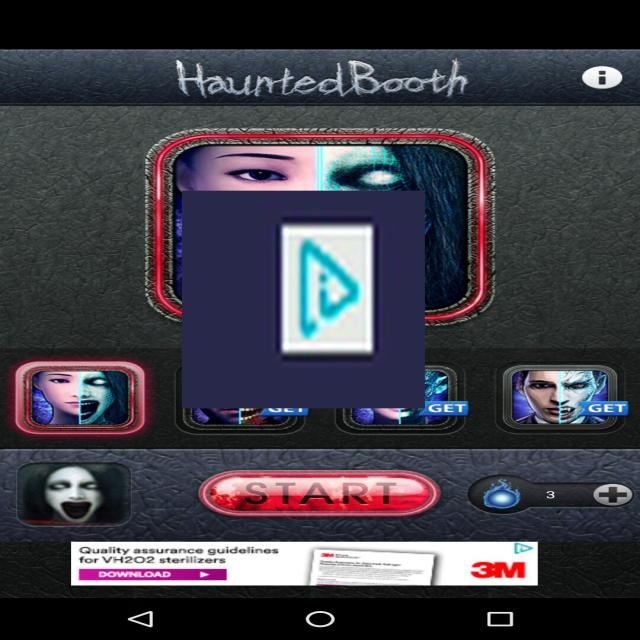sneaking: (182, 191, 425, 408)
